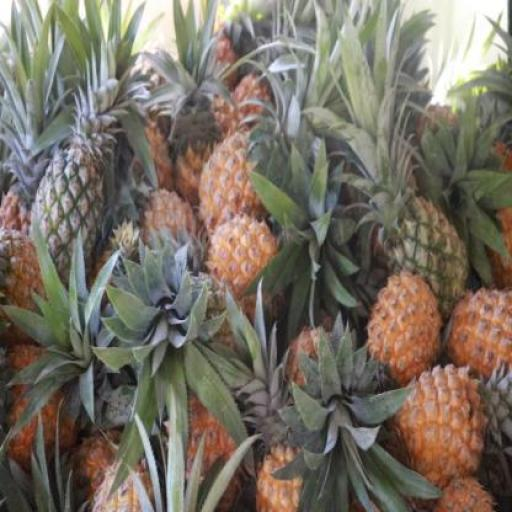Pineapple - v8 v1: (395, 368, 481, 490), (369, 278, 445, 393), (200, 146, 271, 248), (208, 223, 281, 312)
